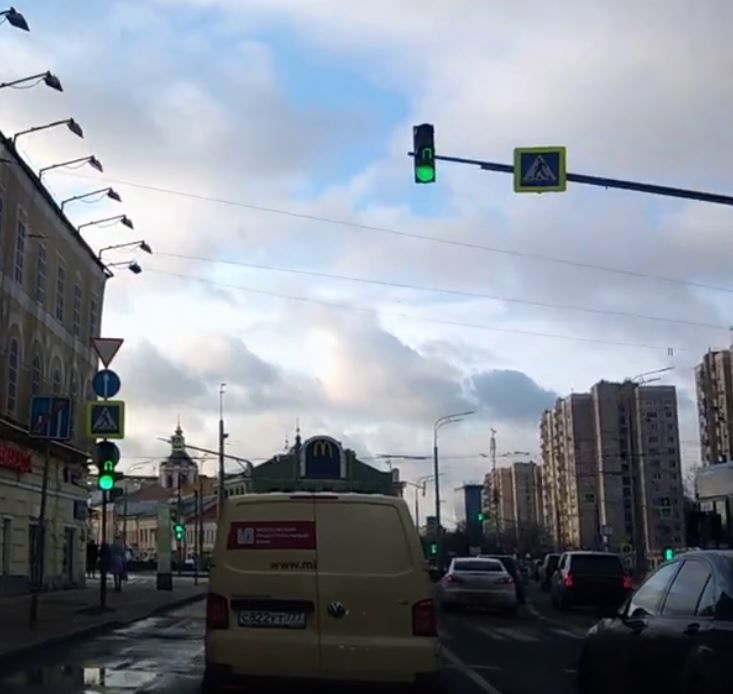Yaya Gecidi: (519, 152, 561, 185), (94, 406, 123, 435)
Yol Ver: (93, 335, 127, 366)
